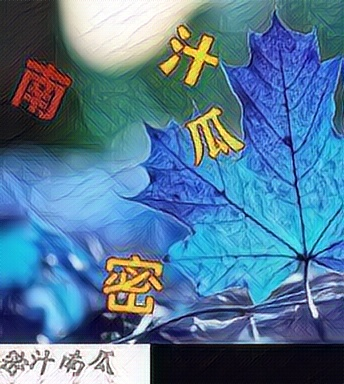B9CF: (181, 103, 247, 167)
C3DB: (100, 251, 166, 315)
C4CF: (9, 56, 75, 120)
D6AD: (154, 25, 220, 89)
